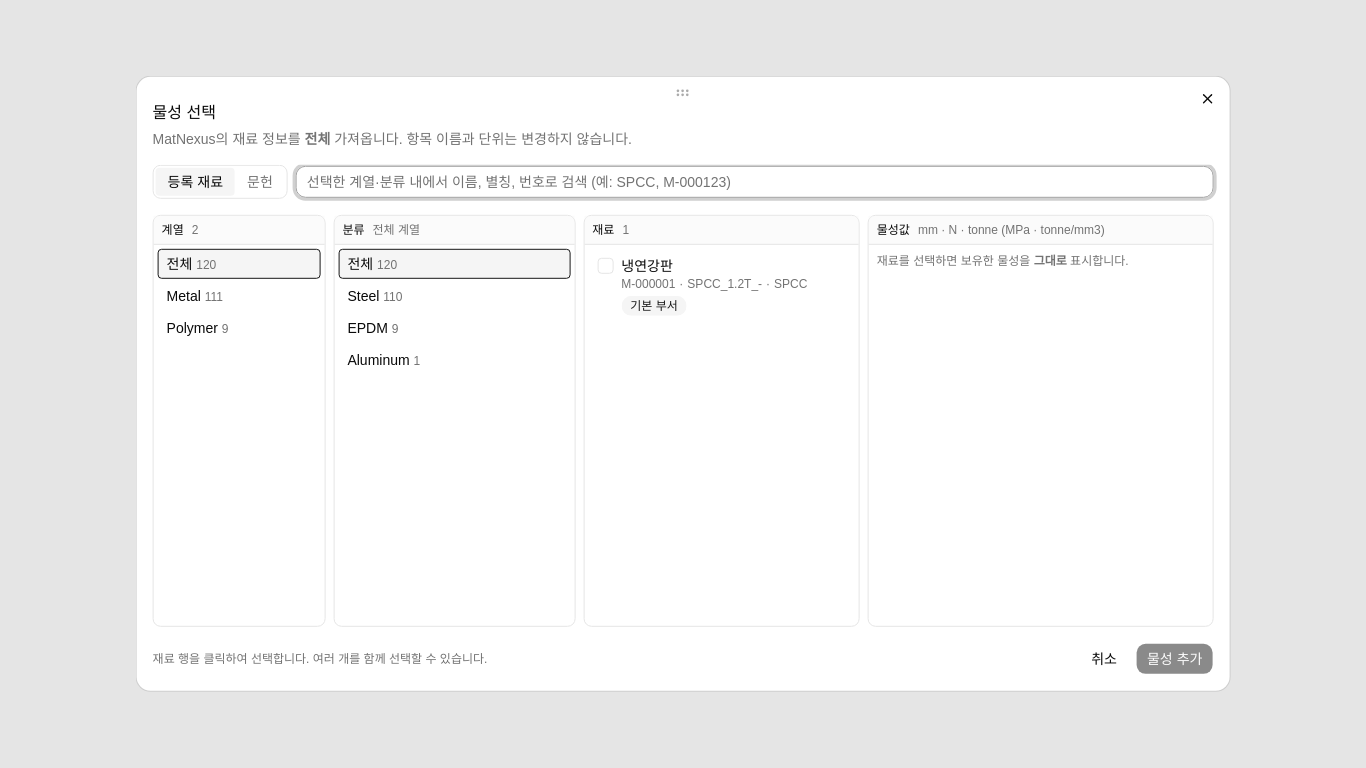
it: 줄을 다시 누르면 빠진다
Click the text "냉연강판" at x=647, y=266, box [621,258,673,274]
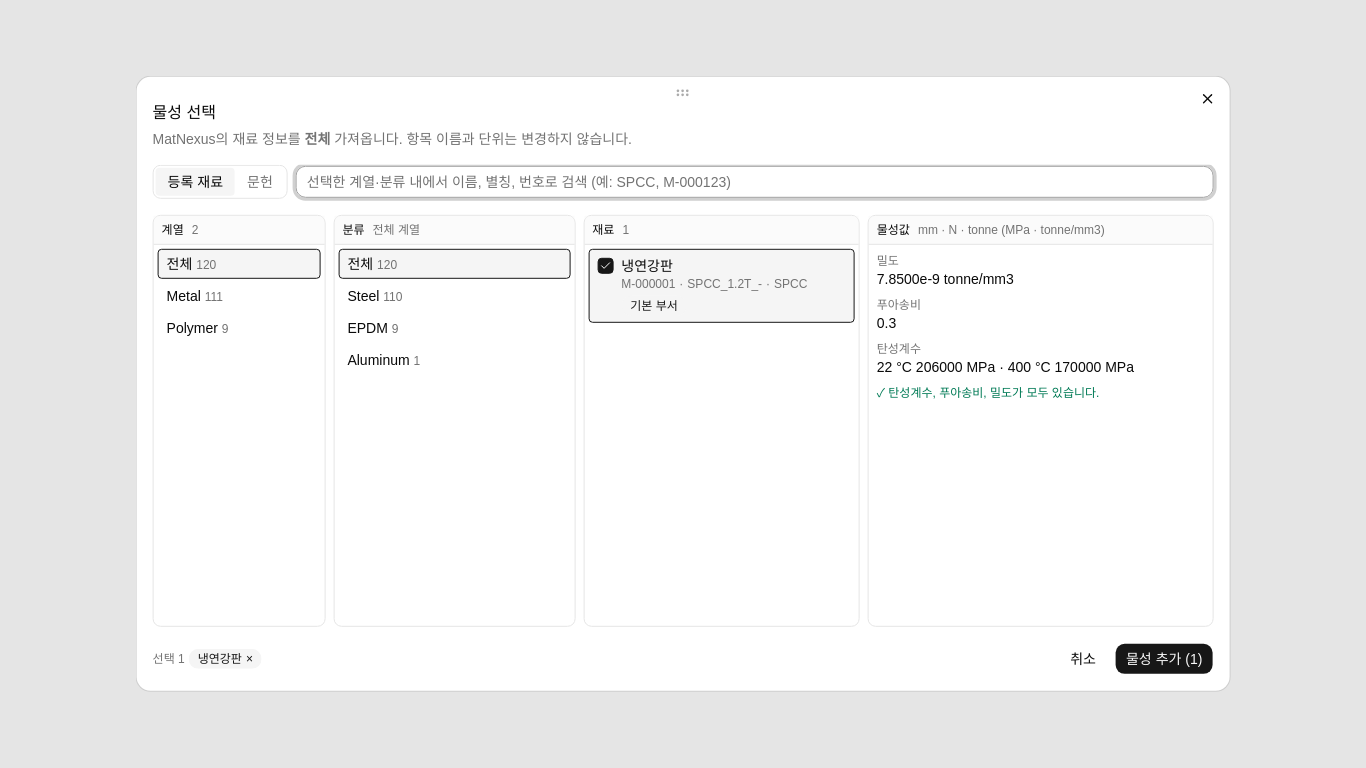
Check: the button "물성 추가 (1)" is enabled, box [1115,643,1213,675]
Click the checkbox named "냉연강판 선택" at x=722, y=286, box [588,249,855,323]
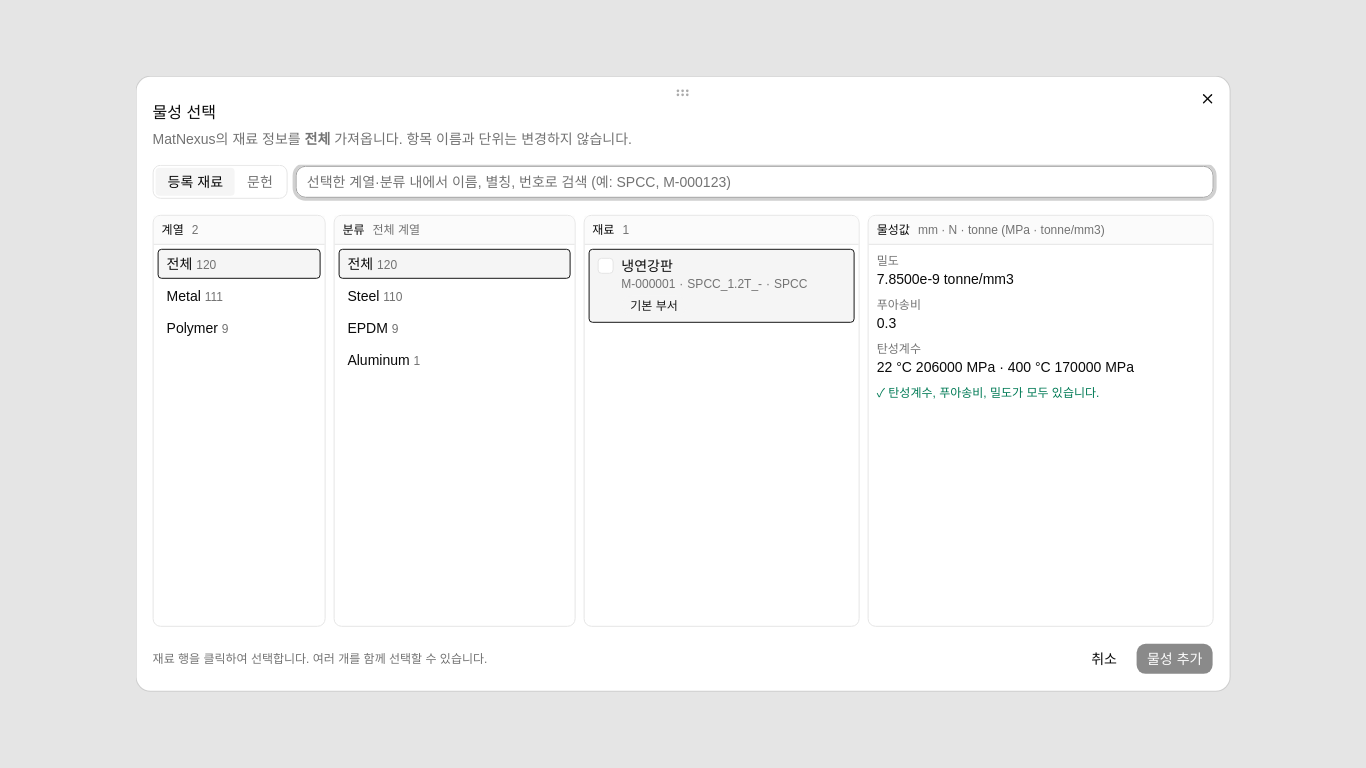
Check: the checkbox named "냉연강판 선택" is not checked, box [588,249,855,323]
Check: the button "물성 추가" is disabled, box [1136,643,1213,675]
